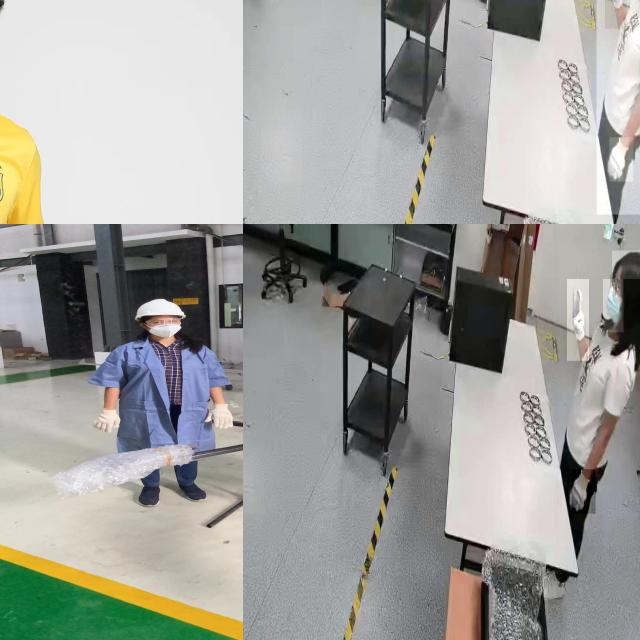face_mask: (603, 279, 623, 332), (146, 317, 182, 339)
glasses: (140, 317, 186, 328)
hand_glove: (567, 279, 589, 361), (610, 137, 634, 183), (572, 469, 596, 515), (198, 404, 238, 430), (88, 408, 124, 434), (605, 0, 627, 29)
head_helmet: (130, 298, 188, 320)
head_nohelmet: (612, 250, 640, 279)
person: (87, 294, 240, 509), (558, 244, 640, 547), (596, 0, 640, 215)
shoes: (540, 564, 568, 605), (131, 481, 166, 510), (171, 480, 211, 503)
